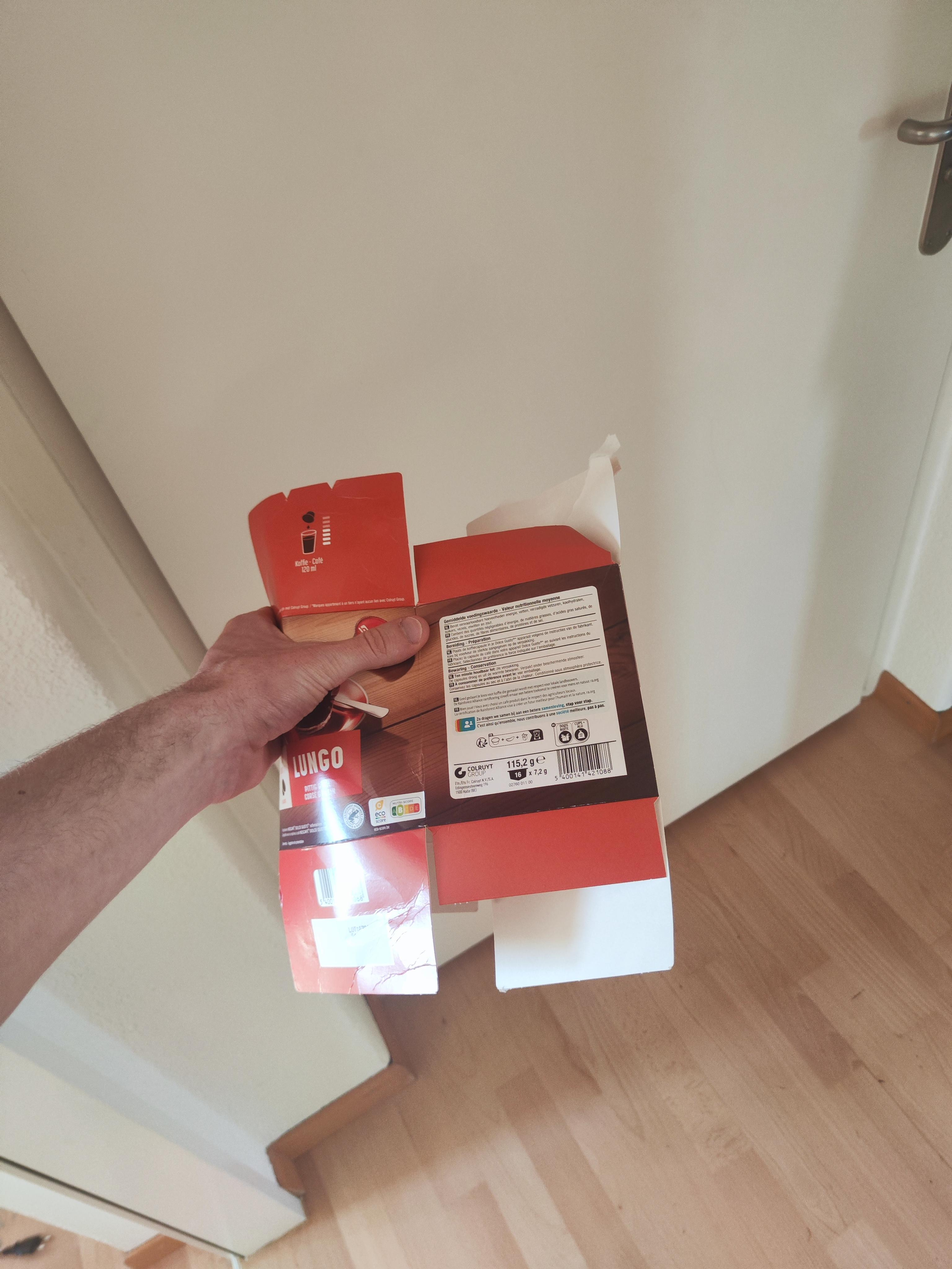Cardboard: (242, 434, 678, 987)
